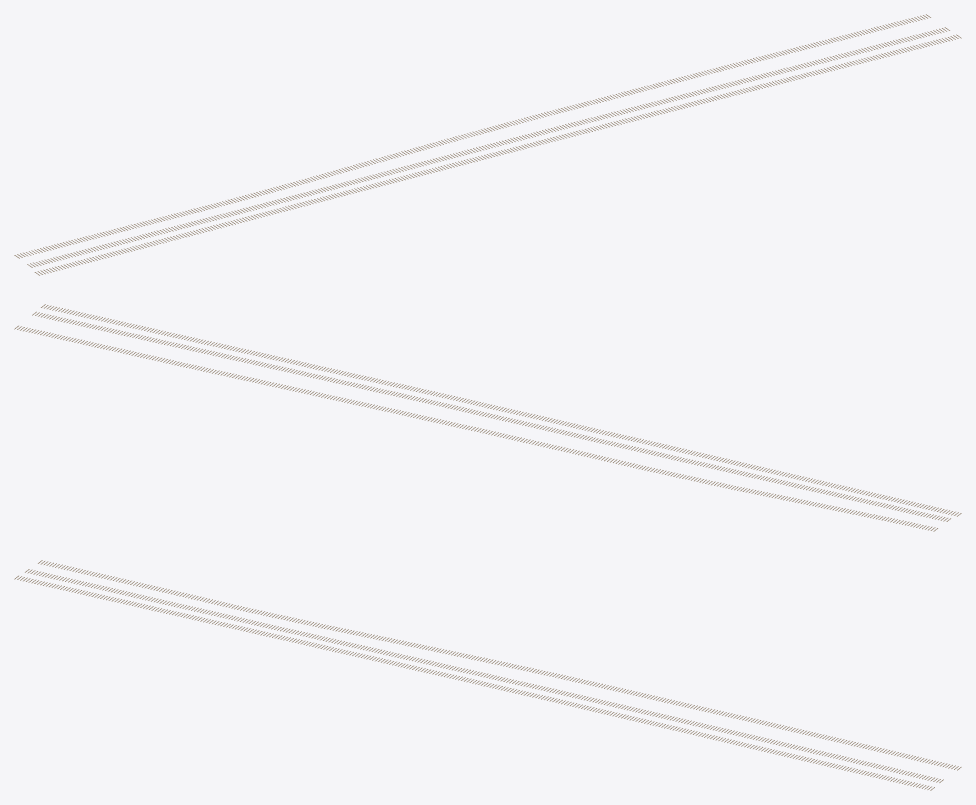
The model's file is c_1624_17822_rail_sleeper.glb.
3 views of the same model, one above another, from view 1: azimuth 30°, elevation 25°; view 2: azimuth 150°, elevation 25°; view 3: azimuth 330°, elevation 25° (orthographic). The views are drawn at different scales.
Parts seen in each view (by area): view 1: geometry_0; view 2: geometry_0; view 3: geometry_0.
Part boxes in pixels (bbox=[...]): geometry_0: bbox=[14, 14, 961, 275]; geometry_0: bbox=[14, 304, 961, 531]; geometry_0: bbox=[14, 560, 961, 790].
Size of the model in its own units: 256 by 0.7777 by 22.91.
